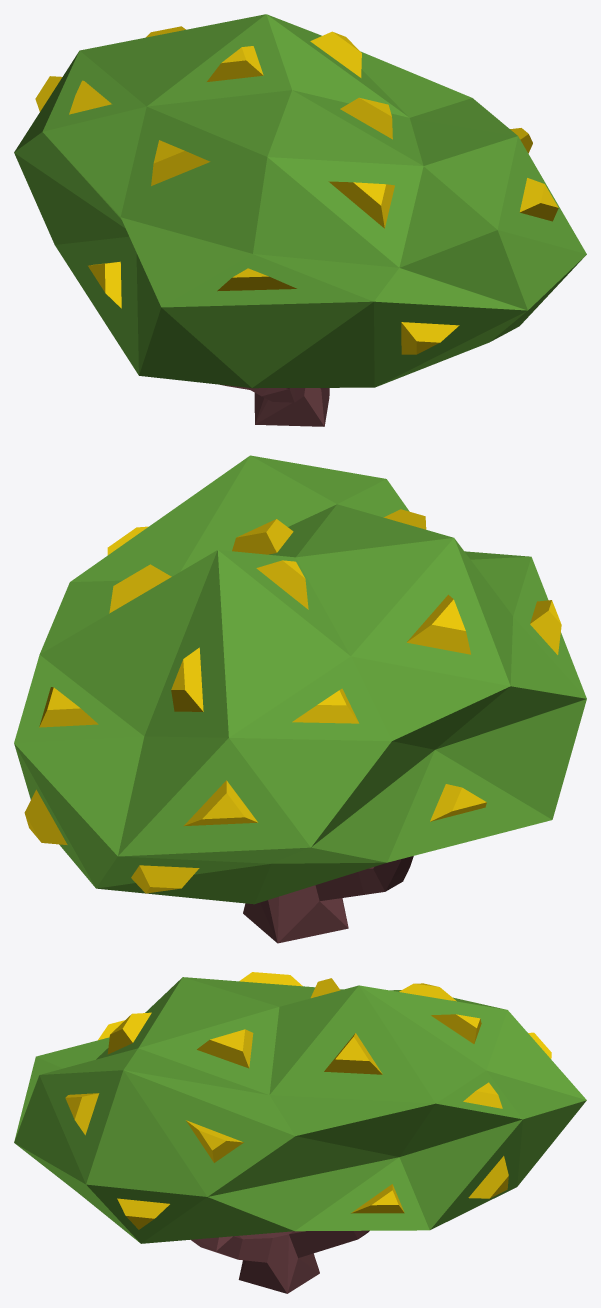
The model's file is Bush5.fbx.
3 views of the same model, one above another, from view 1: azimuth 30°, elevation 25°; view 2: azimuth 150°, elevation 25°; view 3: azimuth 270°, elevation 25° (orthographic). The views are drawn at different scales.
Parts seen in each view (by area): view 1: Leaves11, Trunk11; view 2: Leaves11, Trunk11; view 3: Leaves11, Trunk11.
Part boxes in pixels (bbox=[...]): Leaves11: bbox=[14, 14, 586, 388]; Trunk11: bbox=[220, 384, 329, 426]; Leaves11: bbox=[14, 455, 586, 904]; Trunk11: bbox=[243, 856, 413, 943]; Leaves11: bbox=[14, 972, 586, 1243]; Trunk11: bbox=[190, 1230, 369, 1293].
Size of the model in its own units: 163 by 138 by 239.
